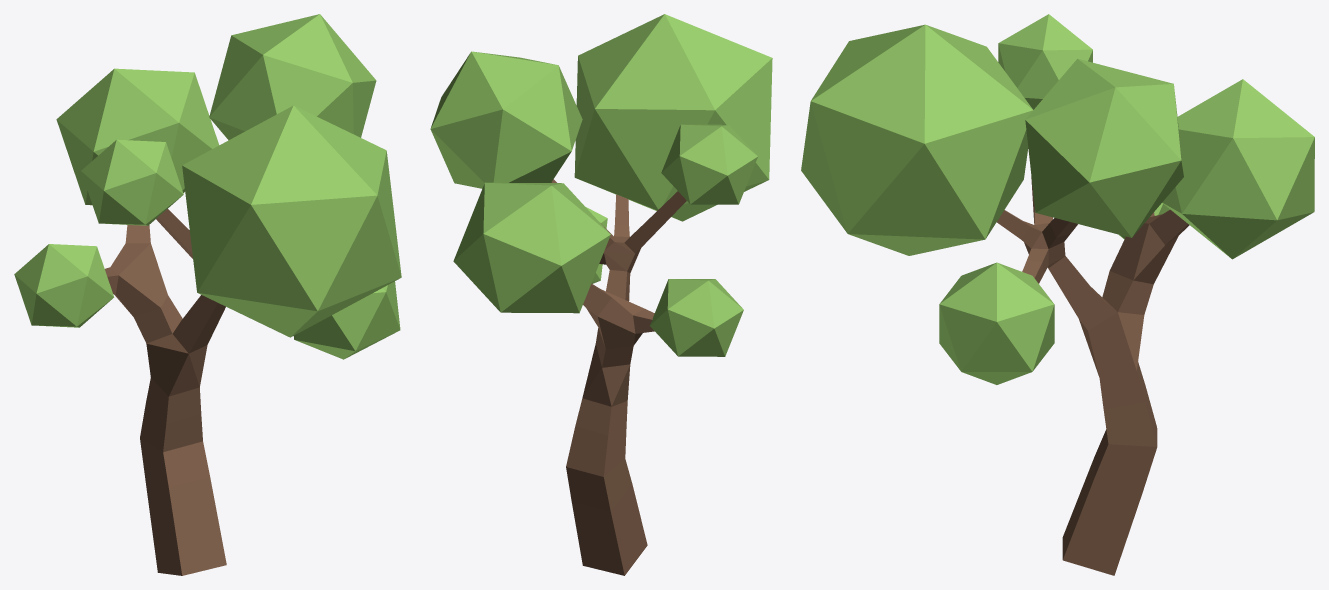
The model's file is Templar.fbx.
3 renders of one model, left to right at view 1: azimuth 30°, elevation 25°; view 2: azimuth 150°, elevation 25°; view 3: azimuth 270°, elevation 25°, orthographic. The views are drawn at different scales.
Parts seen in each view (by area): view 1: Icosphere.002, Cube.015, Icosphere.001, Icosphere.004, Icosphere.003, Icosphere.005, Icosphere; view 2: Icosphere.002, Cube.015, Icosphere.001, Icosphere.004, Icosphere.003, Icosphere.005; view 3: Icosphere.002, Cube.015, Icosphere.001, Icosphere.004, Icosphere, Icosphere.003.
Part boxes in pixels (x1,y1,x2,y2): Icosphere.002: [182, 105, 401, 337]; Cube.015: [105, 209, 226, 575]; Icosphere.001: [209, 14, 376, 140]; Icosphere.004: [56, 68, 219, 205]; Icosphere.003: [81, 139, 183, 225]; Icosphere.005: [14, 244, 114, 327]; Icosphere: [293, 281, 400, 359]; Icosphere.002: [574, 14, 772, 221]; Cube.015: [551, 179, 686, 575]; Icosphere.001: [430, 51, 582, 188]; Icosphere.004: [453, 182, 610, 313]; Icosphere.003: [661, 124, 757, 204]; Icosphere.005: [650, 279, 743, 356]; Icosphere.002: [801, 24, 1033, 255]; Cube.015: [997, 177, 1189, 575]; Icosphere.001: [1025, 58, 1183, 237]; Icosphere.004: [1162, 79, 1314, 259]; Icosphere: [939, 262, 1054, 384]; Icosphere.003: [998, 14, 1092, 109].
Size of the model in its own units: 1.2 by 1.8 by 1.52.
